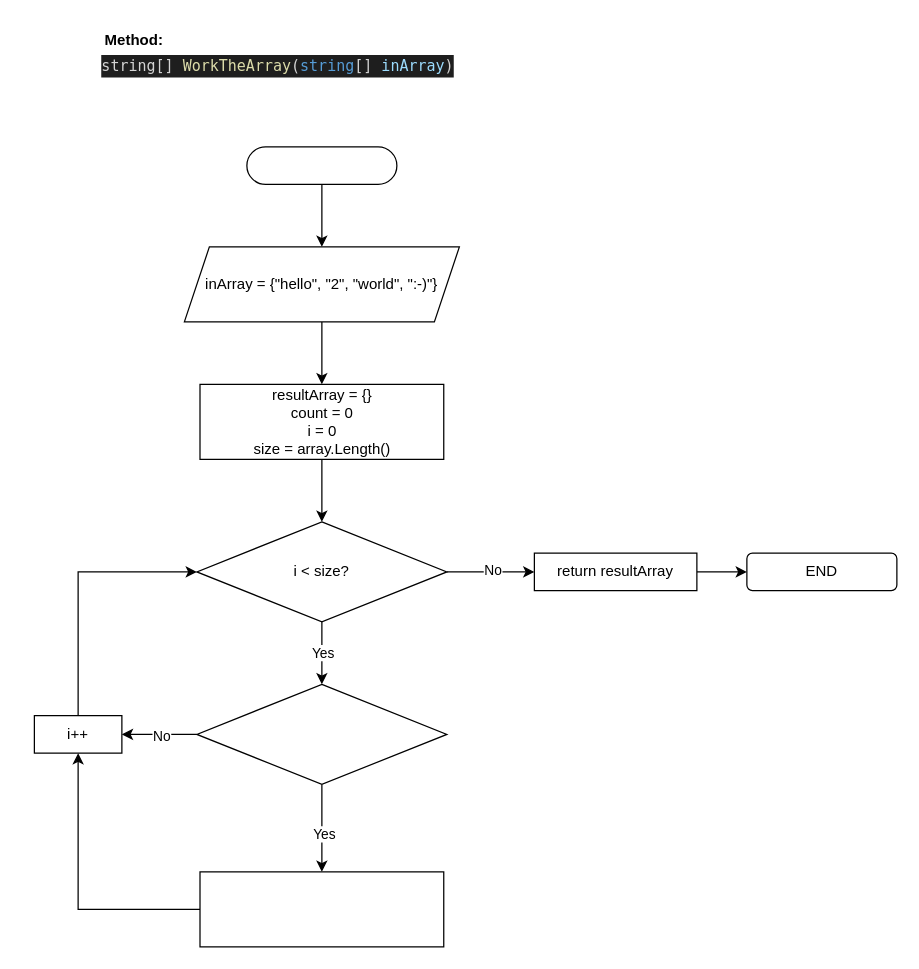
Image size: 919x969. Some labels were removed from this diagram. Here are the shapes that lost their labels. From the top down, the centre of each, then its label:
the point at 321,165: Begin
the point at 321,733: inArray[i].Length < 3?
the point at 321,909: resultArray[count] = inArray[i] count += 1
